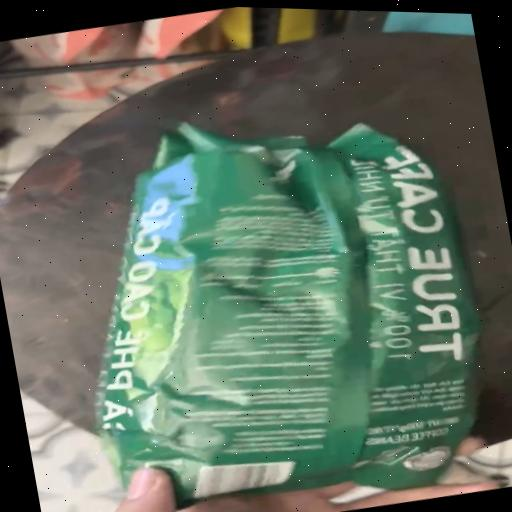cafe_xay: (97, 122, 480, 506)
